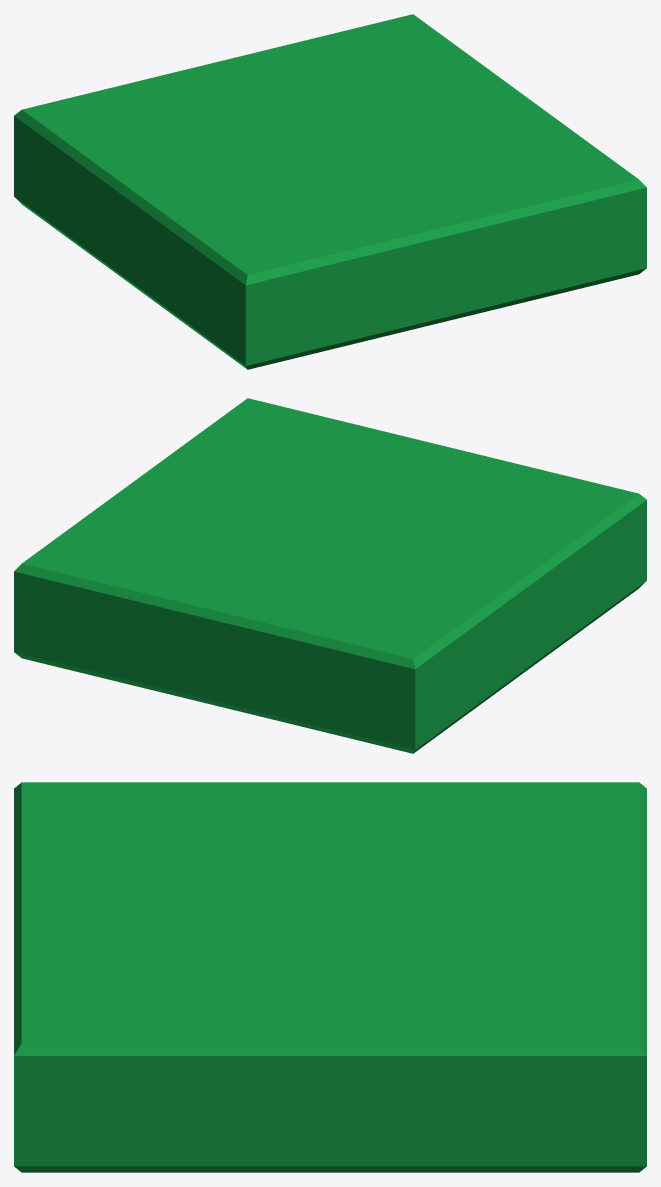
The model's file is Round_Blue_02.fbx.
The picture shows the model from 3 angles, top to bottom: view 1: azimuth 30°, elevation 25°; view 2: azimuth 150°, elevation 25°; view 3: azimuth 270°, elevation 25°; orthographic projection. The views are drawn at different scales.
Visible parts, largest first — view 1: Round_Blue_02; view 2: Round_Blue_02; view 3: Round_Blue_02.
Boxes of the visible parts, left/top/right/bottom form: Round_Blue_02: left=14, top=14, right=646, bottom=369; Round_Blue_02: left=14, top=398, right=646, bottom=753; Round_Blue_02: left=14, top=782, right=646, bottom=1172.
Bounding box in the file's own units: 70.89 × 16 × 70.89.
